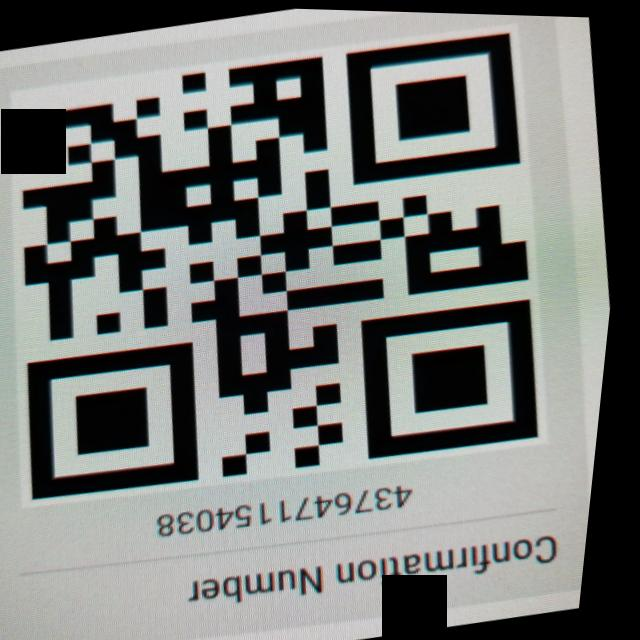QR_CODE: (0, 0, 601, 541)
